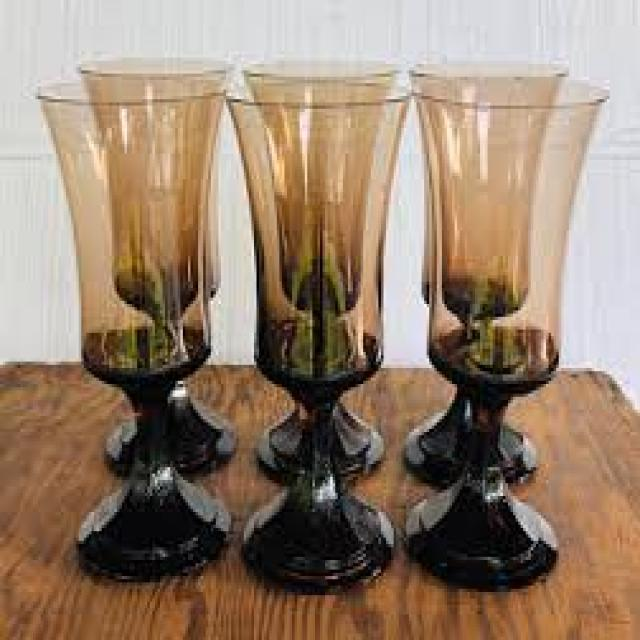glass: (396, 74, 607, 586), (36, 83, 234, 579), (221, 77, 409, 592), (76, 55, 239, 474), (241, 58, 404, 474), (399, 61, 536, 483)
